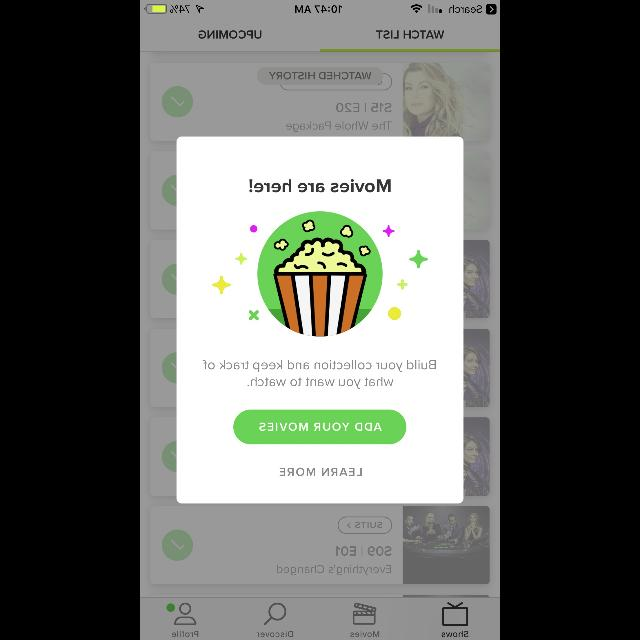image: (212, 212, 428, 336)
panel: (176, 136, 464, 504)
text: (202, 360, 436, 390), (250, 180, 390, 192), (279, 468, 361, 476)
textbutton: (234, 410, 406, 444)
uppertaskbar: (140, 0, 500, 14)
